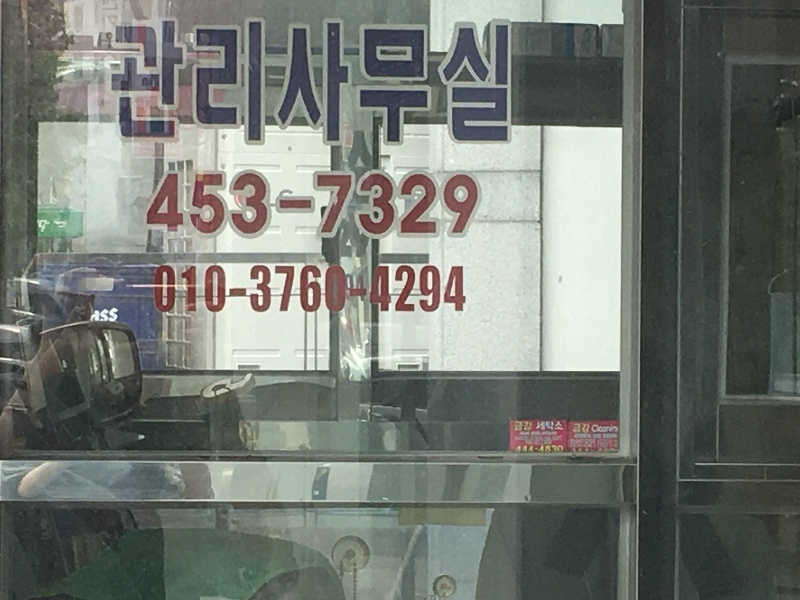text: (113, 19, 128, 150), (129, 19, 144, 150), (145, 19, 160, 150), (161, 19, 176, 150), (177, 19, 192, 150), (193, 19, 208, 150), (209, 19, 224, 150), (225, 19, 240, 150), (241, 19, 256, 150), (257, 19, 272, 150), (273, 19, 288, 150), (289, 19, 304, 150), (305, 19, 320, 150), (321, 19, 336, 150), (337, 19, 352, 150), (353, 19, 368, 150), (369, 19, 384, 150), (385, 19, 400, 150), (401, 19, 416, 150), (417, 19, 432, 150), (433, 19, 448, 150), (449, 19, 464, 150), (465, 19, 480, 150), (481, 19, 496, 150), (497, 19, 512, 150), (161, 170, 176, 239), (177, 170, 192, 239), (193, 170, 208, 239), (209, 170, 224, 239), (225, 170, 240, 239), (241, 170, 256, 239), (257, 170, 272, 239), (273, 170, 288, 239), (289, 170, 304, 239), (305, 170, 320, 239), (321, 170, 336, 239), (337, 170, 352, 239), (353, 170, 368, 239), (369, 170, 384, 239), (385, 170, 400, 239), (401, 170, 416, 239), (417, 170, 432, 239), (433, 170, 448, 239), (449, 170, 464, 239), (465, 170, 480, 239), (161, 264, 176, 315), (177, 264, 192, 315), (193, 264, 208, 315), (209, 264, 224, 315), (225, 264, 240, 315), (241, 264, 256, 315), (257, 264, 272, 315), (273, 264, 288, 315), (289, 264, 304, 315), (305, 264, 320, 315), (321, 264, 336, 315), (337, 264, 352, 315), (353, 264, 368, 315), (369, 264, 384, 315), (385, 264, 400, 315), (401, 264, 416, 315), (417, 264, 432, 315), (433, 264, 448, 315), (449, 264, 464, 315), (154, 264, 160, 315), (97, 307, 112, 325), (513, 19, 515, 150), (481, 170, 484, 239), (49, 221, 64, 234), (545, 421, 560, 430), (577, 439, 592, 448), (111, 19, 112, 150), (515, 421, 528, 431), (577, 424, 590, 434), (38, 221, 48, 234), (529, 445, 544, 453), (545, 445, 560, 453), (593, 425, 608, 433), (113, 307, 119, 325), (465, 264, 467, 315), (597, 439, 608, 448), (609, 439, 619, 448), (518, 445, 528, 453), (609, 425, 618, 433), (92, 307, 96, 325), (159, 170, 160, 239), (537, 421, 544, 430), (570, 439, 576, 448), (529, 421, 533, 431), (573, 424, 576, 434), (561, 421, 564, 430), (65, 221, 67, 234), (561, 445, 564, 453), (593, 439, 595, 448)
